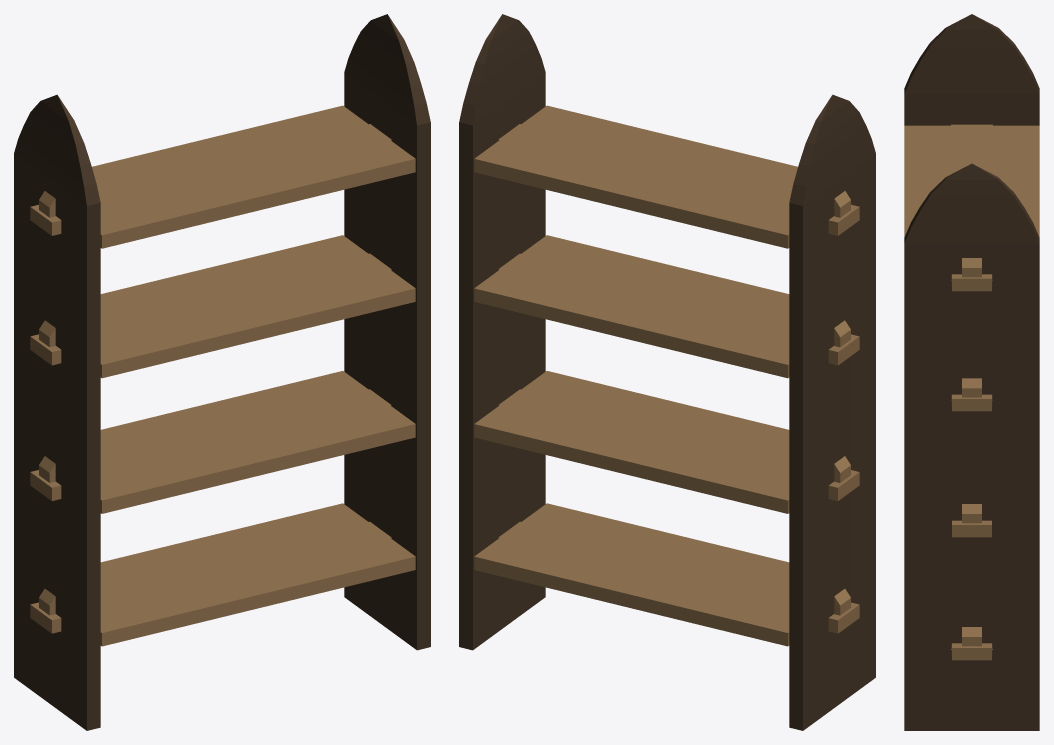
The model's file is estantepiso.fbx.
The picture shows the model from 3 angles, left to right: view 1: azimuth 30°, elevation 25°; view 2: azimuth 150°, elevation 25°; view 3: azimuth 270°, elevation 25°; orthographic projection. The views are drawn at different scales.
Visible parts, largest first — view 1: Cube.001; view 2: Cube.001; view 3: Cube.001.
Boxes of the visible parts, x1,y1,x2,y2 form: Cube.001: [14, 14, 430, 730]; Cube.001: [459, 14, 875, 730]; Cube.001: [904, 14, 1039, 730].
Size of the model in its own units: 575 by 922 by 200.
